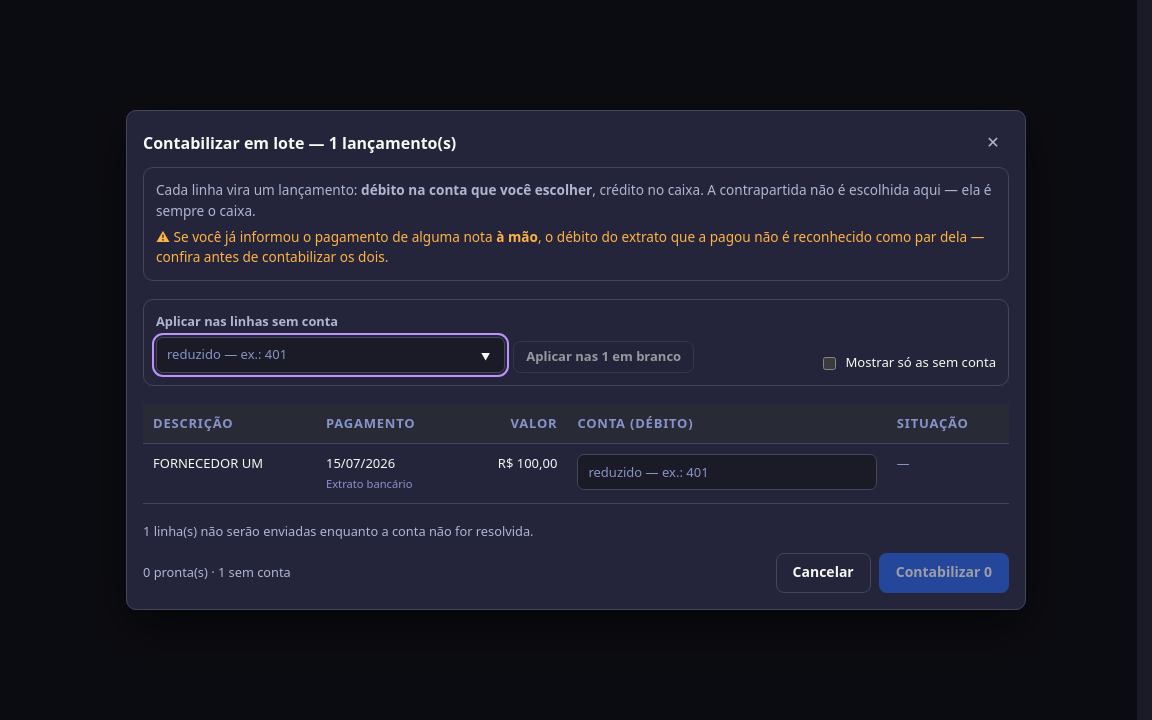
it: ⚠⚠ a conta recusada é nomeada NA LINHA, e a linha não é enviada › sintética diz que é de agregação e não entra na contagem do botão
Type "400" into the field named "Conta contábil da despesa".
click(727, 472); type("400")  # box [577,454,877,490]
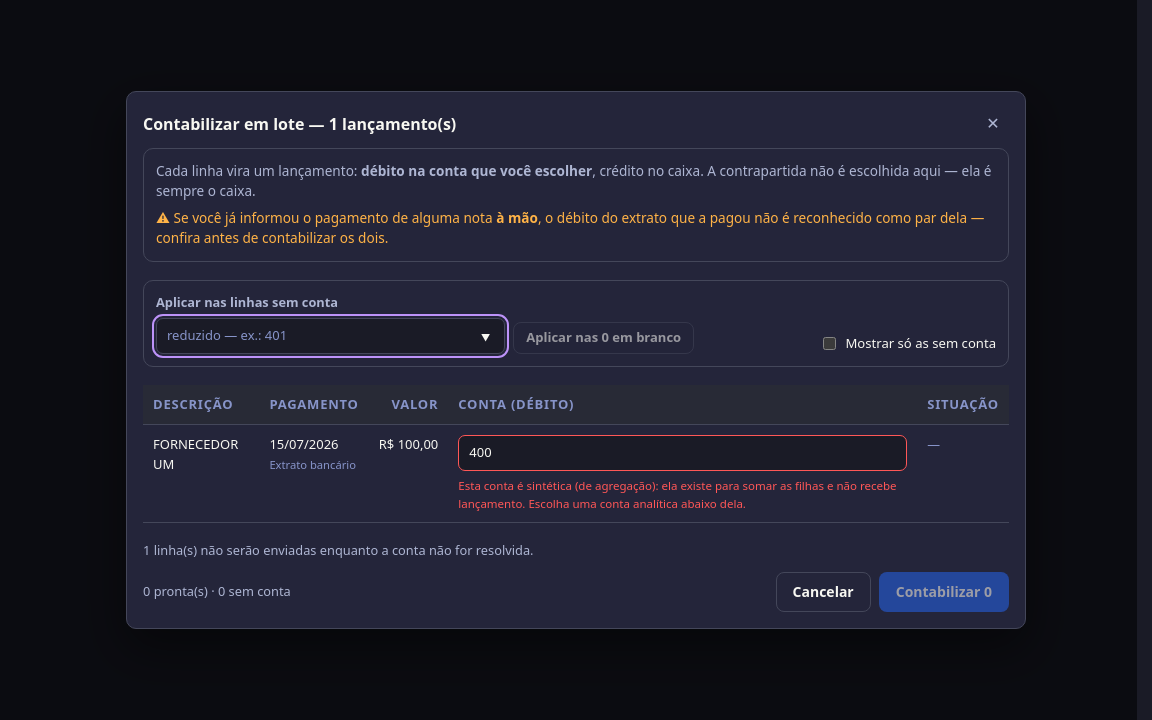
Expected: the button "Contabilizar 0" is disabled, [879,572,1009,612]
Expected: the text "agregação" is shown, [458,478,896,511]
